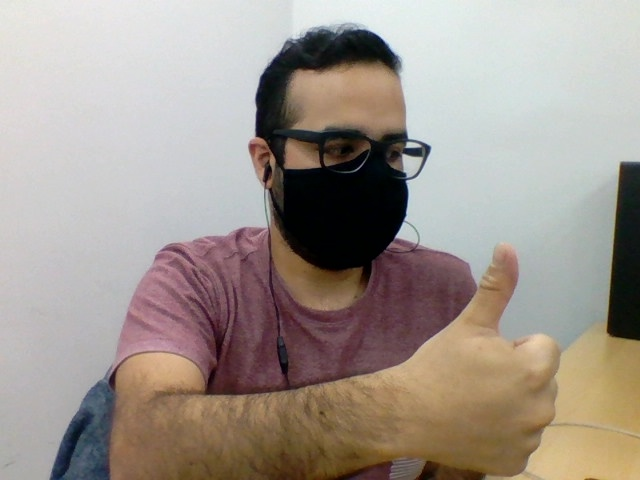ThumbsUp: (399, 240, 562, 478)
